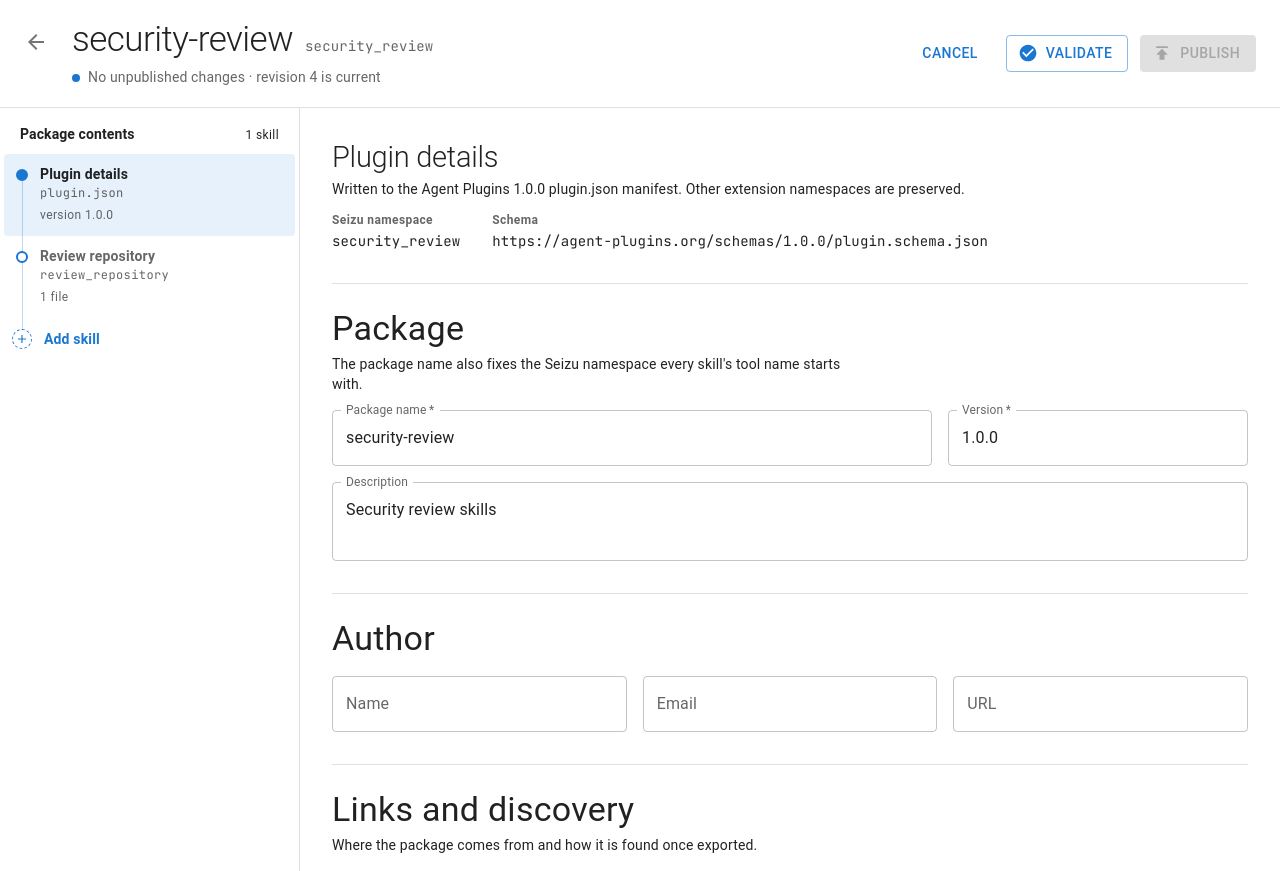
Test case: PluginEditor › offers structured skill creation from the package navigation
Check: the heading "Plugin details" is shown, box [332,140,498,174]
Click the button "Add skill" at point(72, 339), box [4,318,295,362]
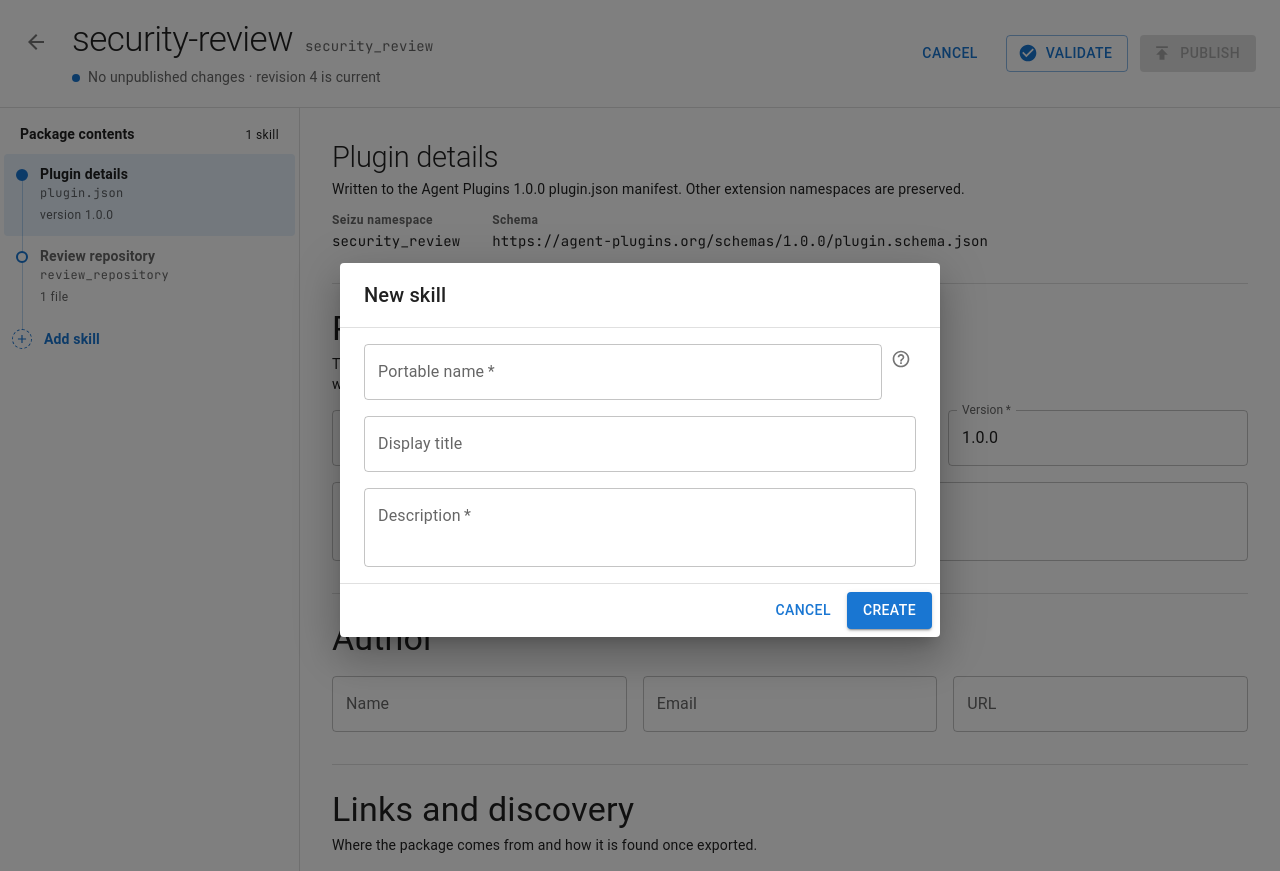
Check: the field labelled "Portable name *" is shown, box [364,344,882,400]
Check: the field labelled "Display title" is shown, box [364,416,916,472]
